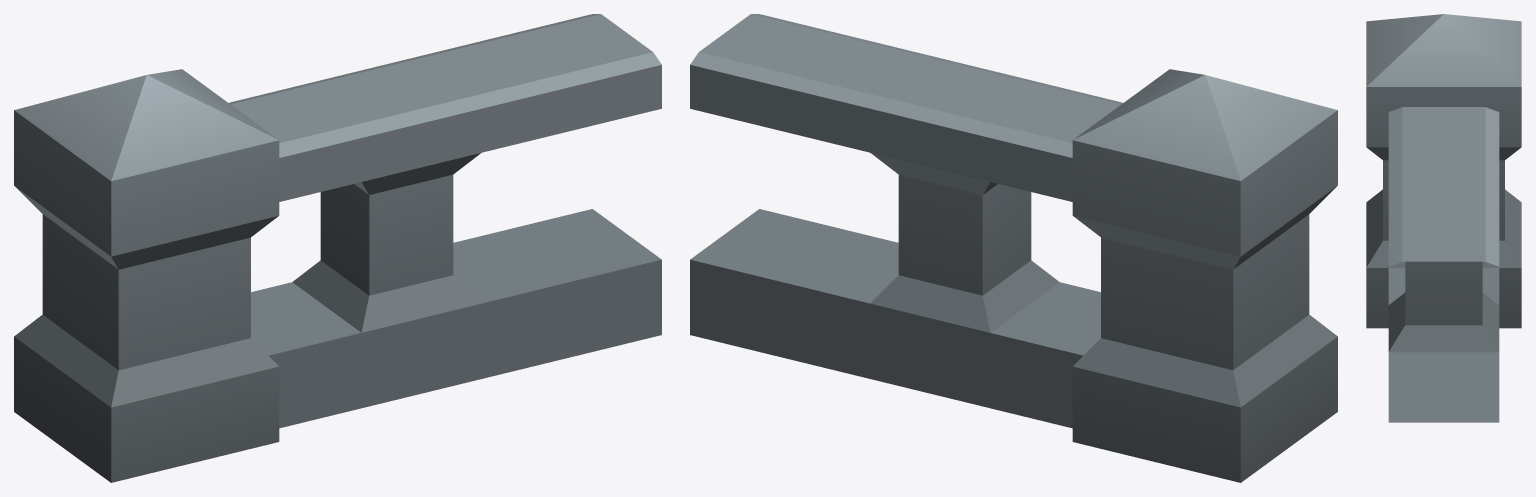
Rendered from barrier_colum_half.gltf.
3 renders of one model, left to right at view 1: azimuth 30°, elevation 25°; view 2: azimuth 150°, elevation 25°; view 3: azimuth 270°, elevation 25°, orthographic. The views are drawn at different scales.
Parts seen in each view (by area): view 1: barrier_colum_half; view 2: barrier_colum_half; view 3: barrier_colum_half.
Boxes of the visible parts, box(x1,y1,x2,y2) form: barrier_colum_half: box(14, 14, 661, 482); barrier_colum_half: box(690, 14, 1337, 482); barrier_colum_half: box(1366, 14, 1521, 422).
Size of the model in its own units: 2.35 by 1.4 by 0.7.
Materials: 1 (1 with a texture image).
